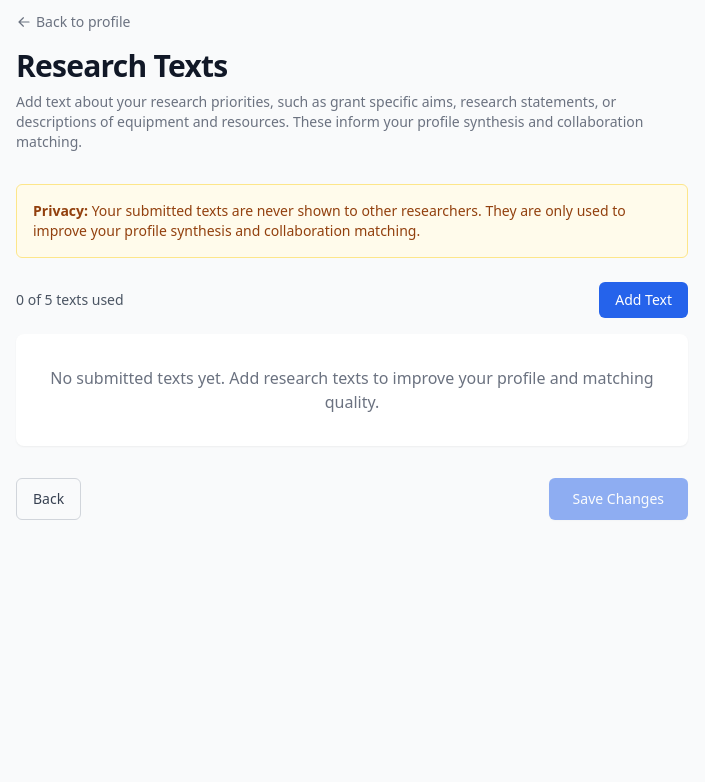
SubmittedTextsPage › opens add form and adds a new text
The image size is (705, 782).
// Click Add Text
Click the button "Add Text" at (644, 300), box x1=599 y1=282 x2=688 y2=318
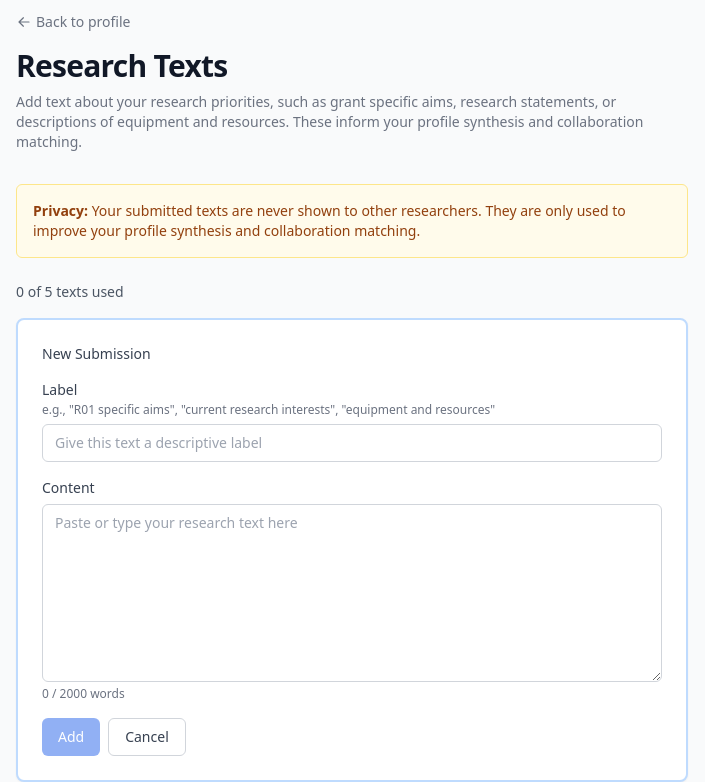
Expected: the heading "New Submission" is shown, x1=42 y1=344 x2=151 y2=363
Type "My aims" into the field with test id "edit-label" at (352, 443), box x1=42 y1=424 x2=662 y2=462
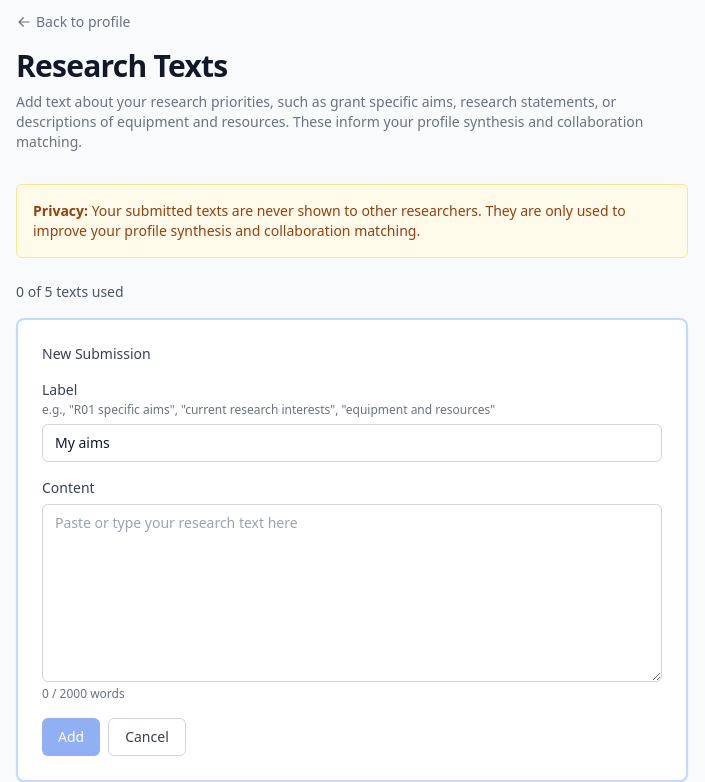
Type "We study cancer biology." into the text box with test id "edit-content" at (352, 593), box x1=42 y1=504 x2=662 y2=682
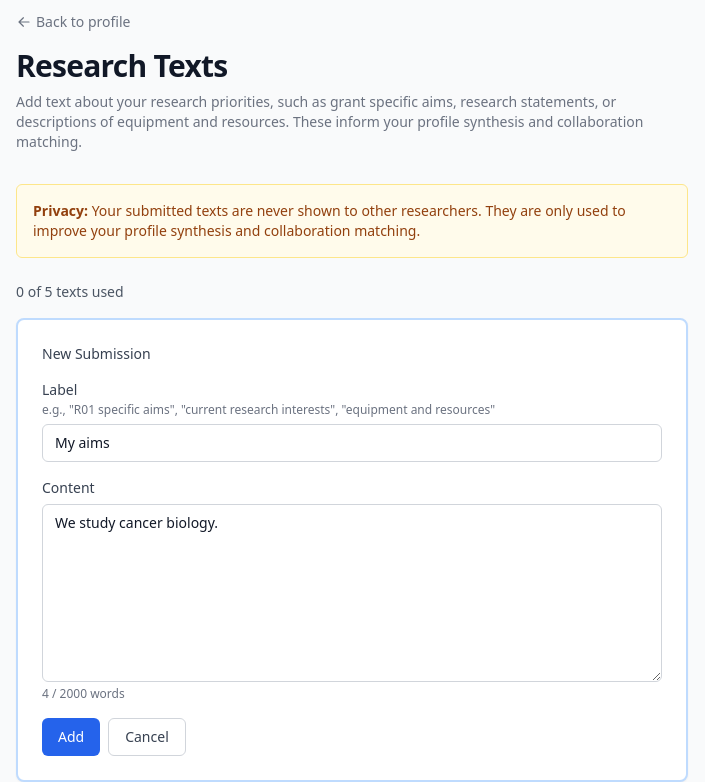
// Confirm add
Click the button "Add" at (71, 737), box x1=42 y1=718 x2=100 y2=756
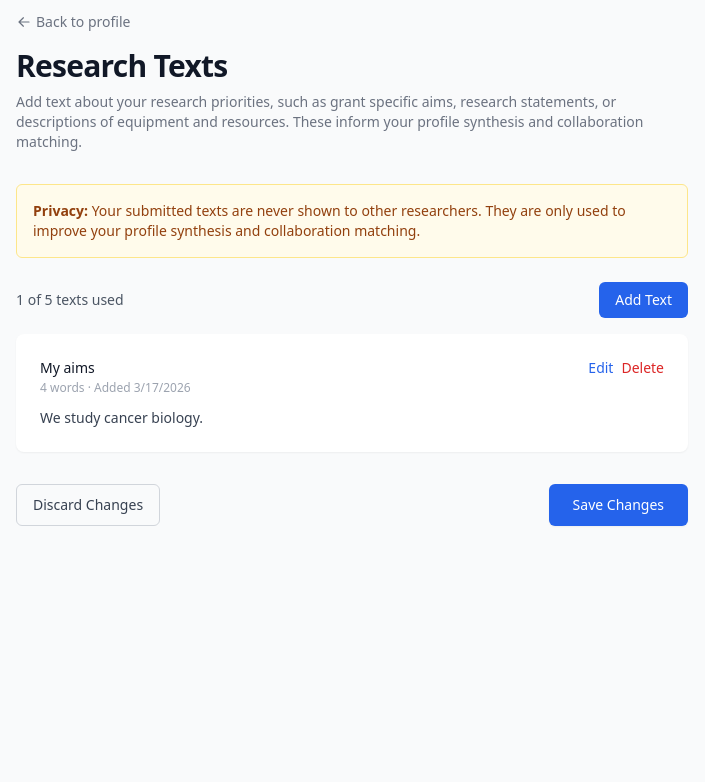
Expected: the heading "My aims" is shown, x1=40 y1=358 x2=95 y2=377
Expected: the text "1 of 5 texts used" is shown, x1=16 y1=290 x2=124 y2=310
